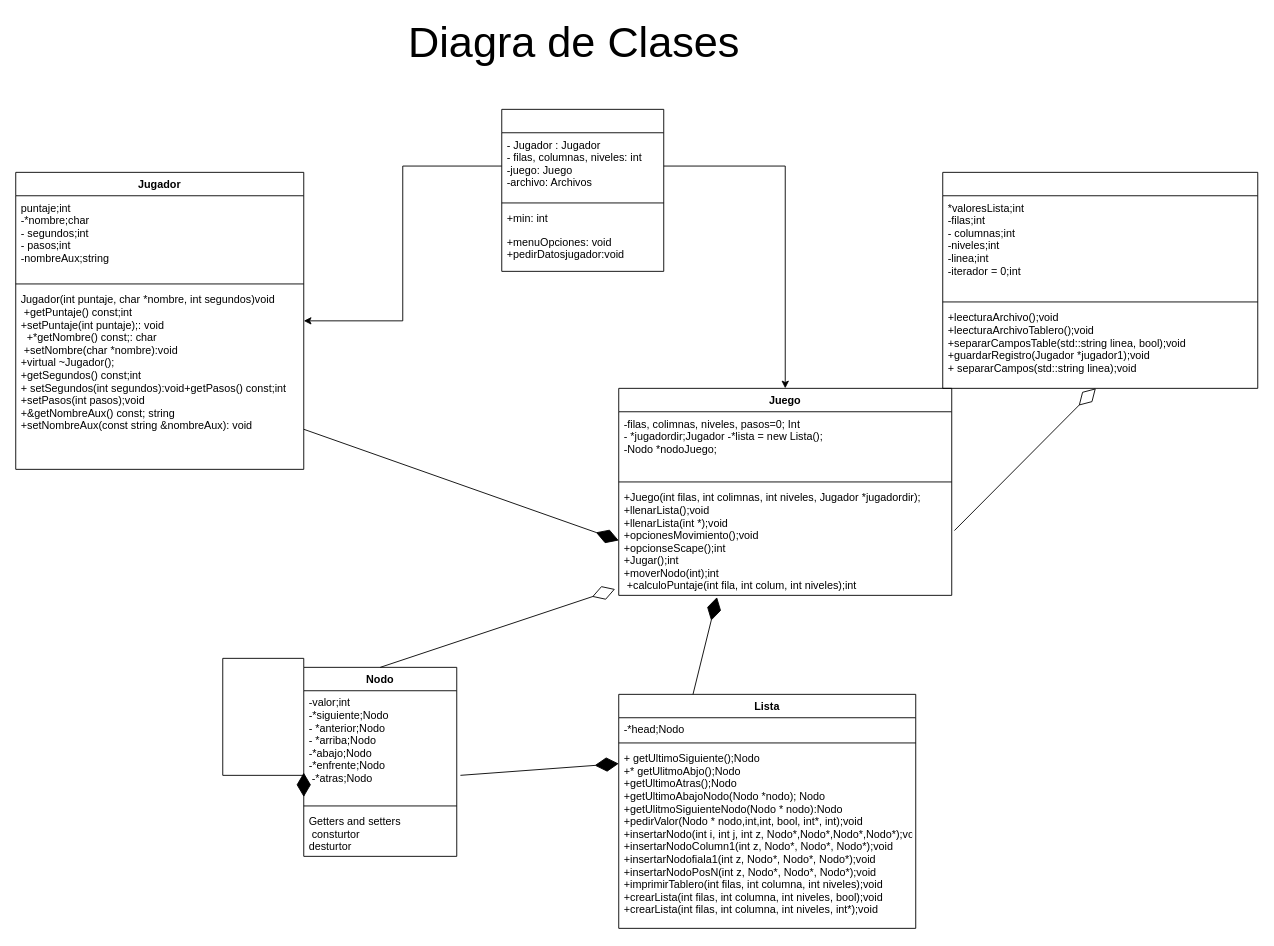
This 1274x946 diagram has some shape labels left out. The shapes that lost their labels are listed below. From the top down, each one's box as (x1, y1, x2, y2) in pixels, then its label:
(501, 108, 664, 271): main
(942, 171, 1258, 388): Archivos
